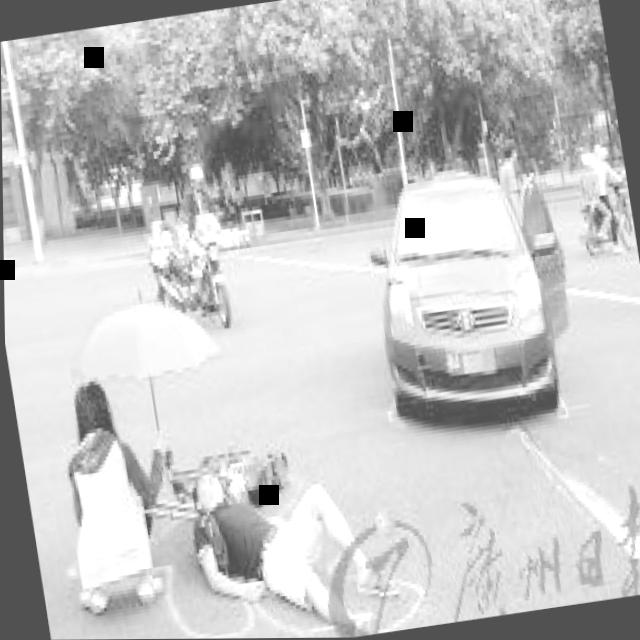Fall-Detected: (158, 412, 390, 639)
